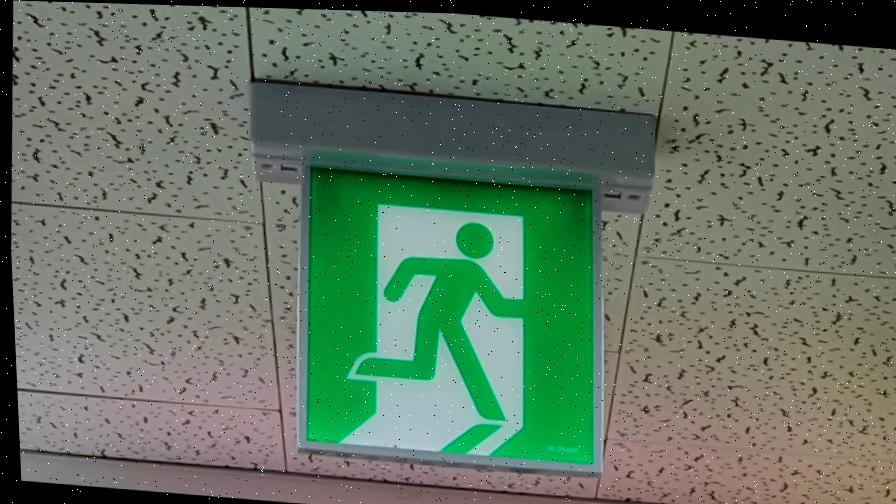emergency_exit: (248, 80, 658, 480), (296, 159, 606, 475)
